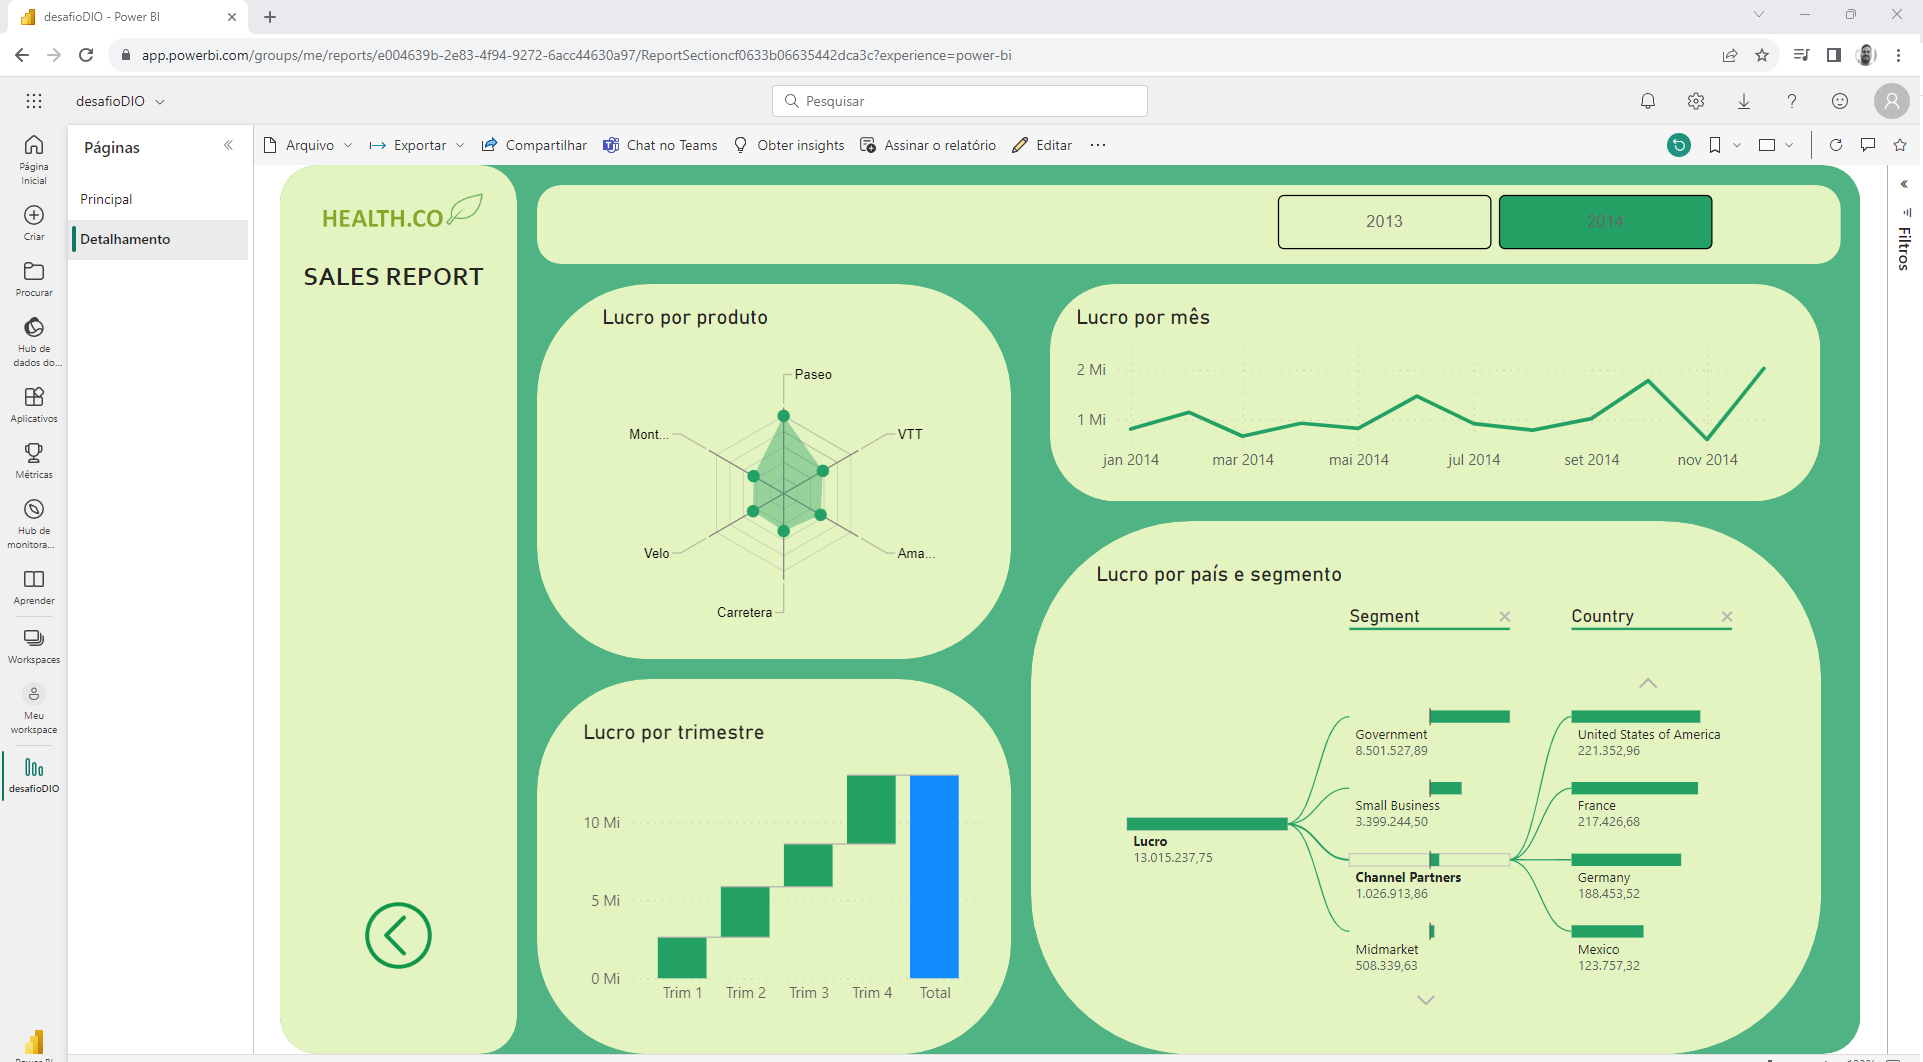

The dashboard page shown, as its layout file describes it:
{"tool":"powerbi","page":{"name":"Detalhamento","canvas":[1280,720],"ordinal":1},"visuals":[{"type":"shape","box":[0,0,1280,720],"z":0},{"type":"image","box":[8,0,176,72],"z":0,"group":"g1"},{"type":"ChicletSlicer1448559807354","fields":{"Category":["financials.Date.Variation.Hierarquia de datas.Ano"]},"box":[800,16,368,64],"z":0,"group":"g2"},{"type":"shape","box":[208,96,384,304],"z":0,"group":"g3"},{"type":"shape","box":[624,96,624,176],"z":0,"group":"g6"},{"type":"shape","box":[608,288,640,432],"z":0,"group":"g5"},{"type":"shape","box":[208,416,384,304],"z":0,"group":"g4"},{"type":"shape","box":[0,0,192,720],"z":1000},{"type":"textbox","box":[0,72,184,40],"z":1000,"group":"g1"},{"type":"RadarChart1446119667547","title":"Lucro por produto","fields":{"Y":["Sum(financials.Profit)"],"Category":["financials.Product"]},"box":[256,112,304,288],"z":1000,"group":"g3"},{"type":"lineChart","title":"Lucro por mês","fields":{"Category":["financials.Date.Variation.Hierarquia de datas.Ano","financials.Date.Variation.Hierarquia de datas.Trimestre","financials.Date.Variation.Hierarquia de datas.Mês","financials.Date.Variation.Hierarquia de datas.Dia"],"Y":["Sum(financials.Profit)"]},"box":[640,112,592,144],"z":1000,"group":"g6"},{"type":"decompositionTreeVisual","title":"Lucro por país e segmento","fields":{"Analyze":["Sum(financials.Profit)"],"ExplainBy":["financials.Segment","financials.Country"]},"box":[656,320,560,400],"z":1000,"group":"g5"},{"type":"waterfallChart","title":"Lucro por trimestre","fields":{"Y":["Sum(financials.Profit)"],"Category":["financials.Date.Variation.Hierarquia de datas.Trimestre"]},"box":[240,448,336,240],"z":1000,"group":"g4"},{"type":"group","id":"g1","title":"Título relatório","box":[0,0,192,112],"z":2000},{"type":"shape","box":[208,16,1056,64],"z":3000},{"type":"group","id":"g2","title":"Filtro por data","box":[800,16,368,64],"z":4000},{"type":"group","id":"g3","title":"Radar","box":[208,96,384,304],"z":5000},{"type":"group","id":"g4","title":"Cascata","box":[208,416,384,304],"z":6000},{"type":"group","id":"g5","title":"Árvore hierárquica","box":[608,288,640,432],"z":7000},{"type":"group","id":"g6","title":"Gráfico de linha","box":[624,96,624,176],"z":8000},{"type":"image","title":"Voltar","box":[64,592,64,64],"z":8001}]}

Visuals, with their boxes on the page's 1280x720 design canvas (x1, y1, x2, y2). These are canvas units, not pixel positions in the 1923x1062 screenshot, which may show the page scaled, cropped or inside an application window:
shape: box(0, 0, 1280, 720)
image: box(8, 0, 184, 72)
ChicletSlicer1448559807354 - financials.Date.Variation.Hierarquia de datas.Ano: box(800, 16, 1168, 80)
shape: box(208, 96, 592, 400)
shape: box(624, 96, 1248, 272)
shape: box(608, 288, 1248, 720)
shape: box(208, 416, 592, 720)
shape: box(0, 0, 192, 720)
textbox: box(0, 72, 184, 112)
"Lucro por produto" RadarChart1446119667547: box(256, 112, 560, 400)
"Lucro por mês" lineChart: box(640, 112, 1232, 256)
"Lucro por país e segmento" decompositionTreeVisual: box(656, 320, 1216, 720)
"Lucro por trimestre" waterfallChart: box(240, 448, 576, 688)
"Título relatório" group: box(0, 0, 192, 112)
shape: box(208, 16, 1264, 80)
"Filtro por data" group: box(800, 16, 1168, 80)
"Radar" group: box(208, 96, 592, 400)
"Cascata" group: box(208, 416, 592, 720)
"Árvore hierárquica" group: box(608, 288, 1248, 720)
"Gráfico de linha" group: box(624, 96, 1248, 272)
"Voltar" image: box(64, 592, 128, 656)
